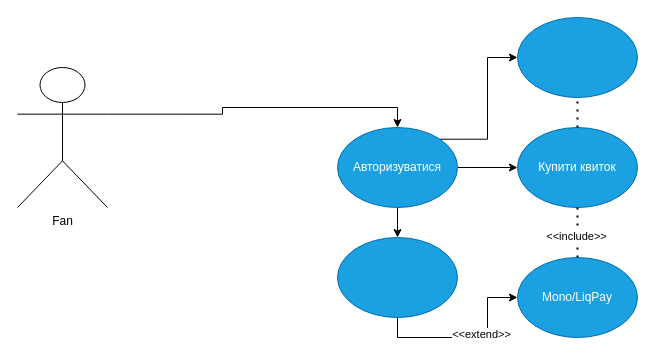
This 655x363 diagram has some shape labels left out. The shapes that lost their labels are listed below. From the top down, each one's centre as x and y in pixels, then its label:
At (x=577, y=57): "Вибрати матч".
At (x=397, y=277): "Ввести дані карти".
